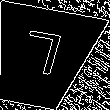L_S: (16, 30, 68, 85)
